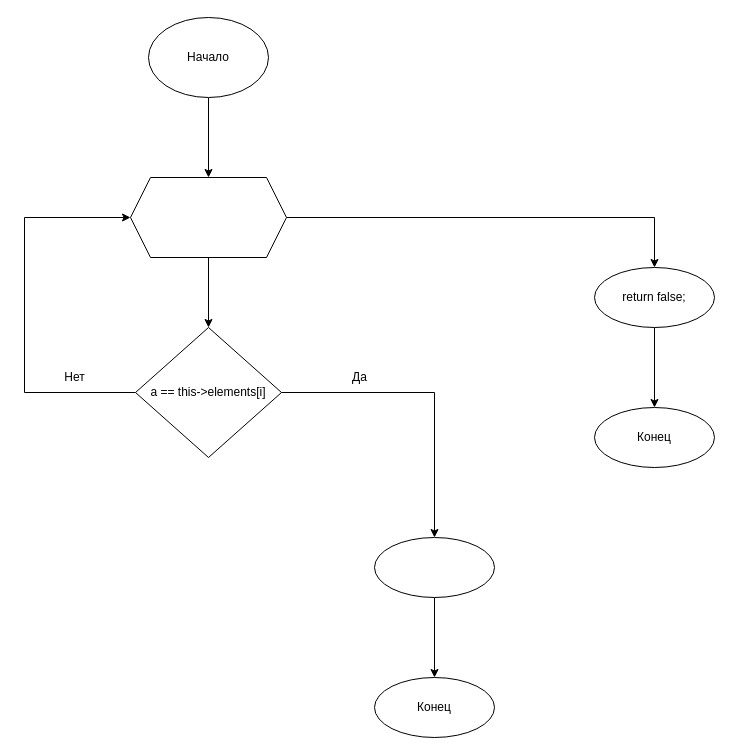
This 732x755 diagram has some shape labels left out. Here are the shapes that lost their labels. From the top down, the box of each, then its label:
(130, 176, 286, 258): int i = 0; i < size; ++i
(374, 536, 494, 598): return true;
